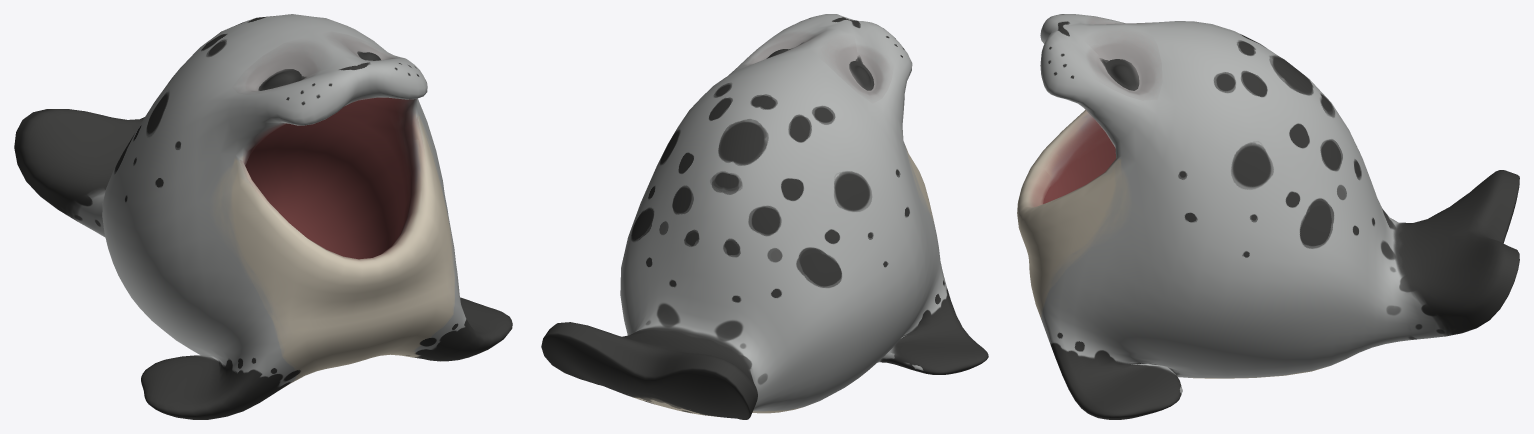
The model's file is bin_temu_spheal.fbx.
3 renders of one model, left to right at view 1: azimuth 30°, elevation 25°; view 2: azimuth 150°, elevation 25°; view 3: azimuth 270°, elevation 25°, orthographic. The views are drawn at different scales.
Parts seen in each view (by area): view 1: spheal_at_home; view 2: spheal_at_home; view 3: spheal_at_home.
Part boxes in pixels (<box>): spheal_at_home: <box>14,14,512,419</box>; spheal_at_home: <box>541,14,988,419</box>; spheal_at_home: <box>1017,14,1519,419</box>.
Bounding box in the file's own units: 229 × 205 × 287.
1 material, 1 textured.
